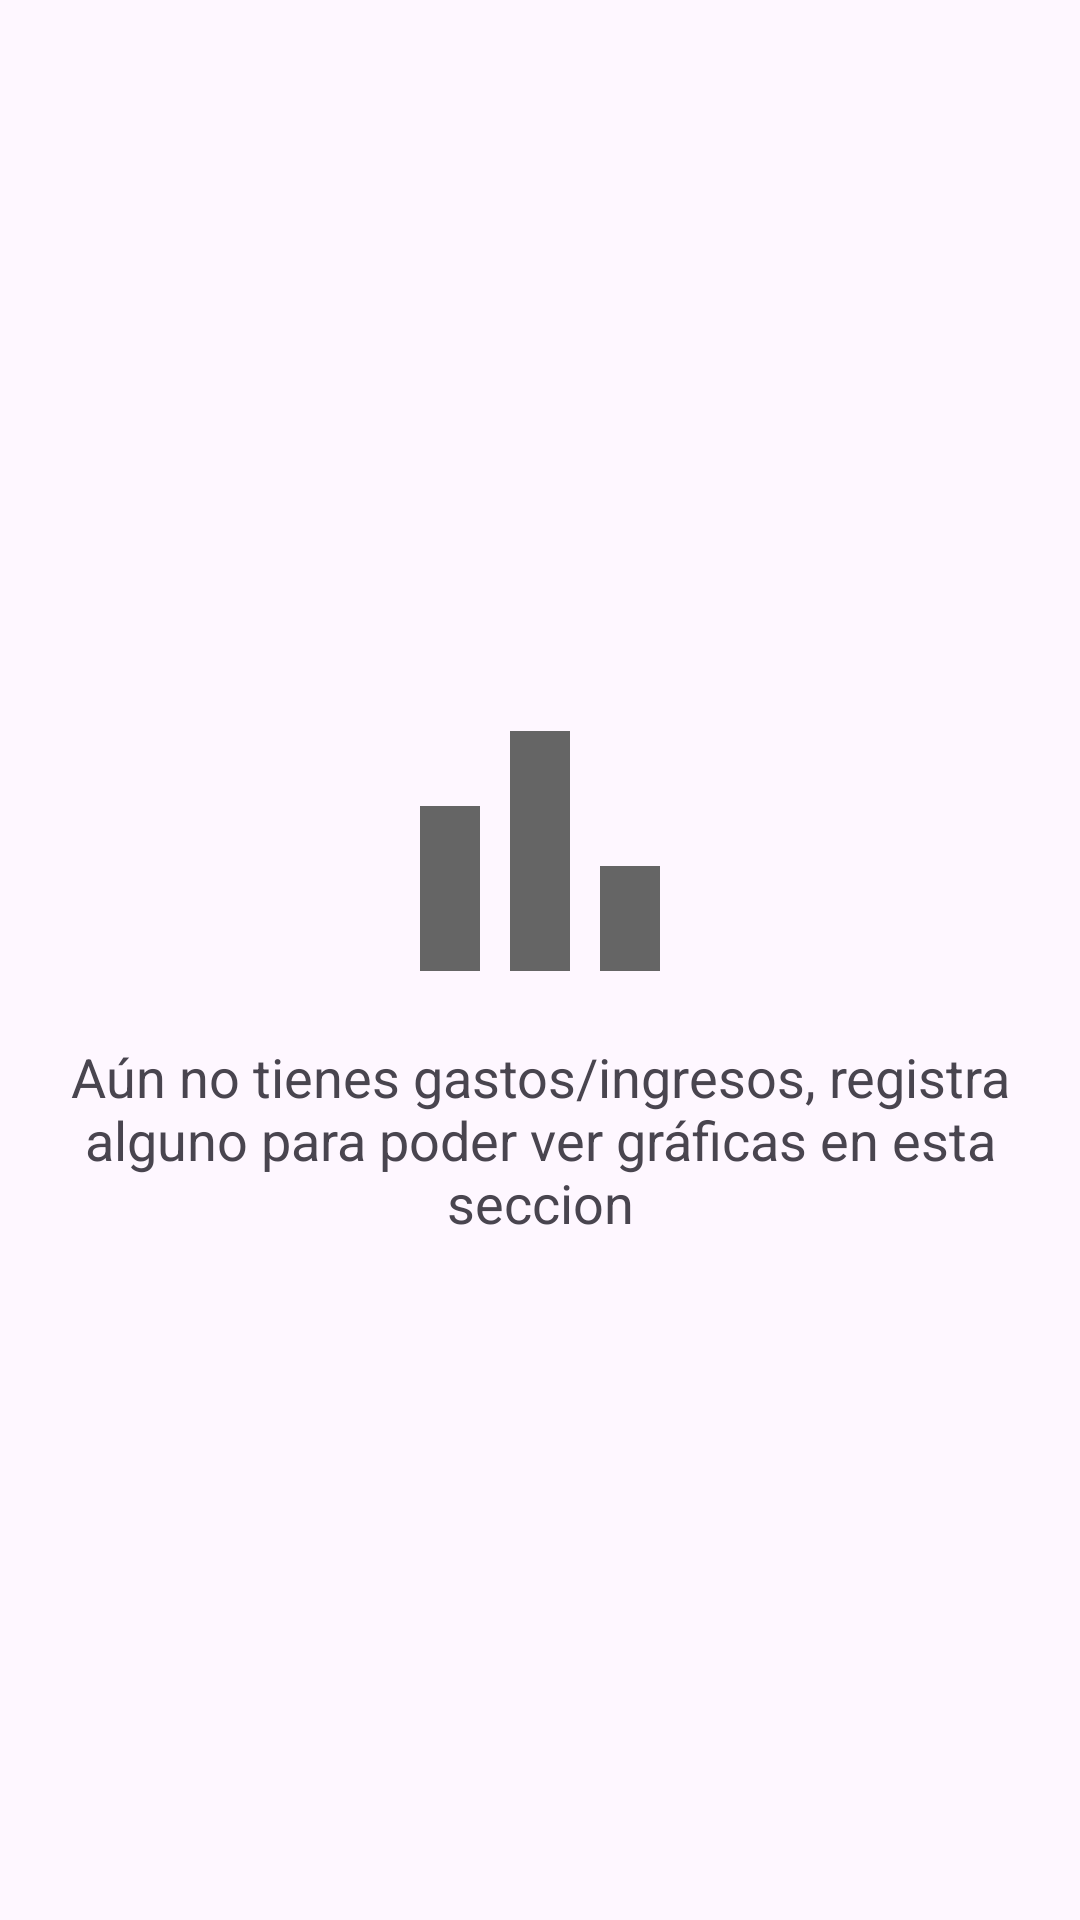

Point at icon controls on the screen. Image size 1080 × 1920, points as [x,y].
chart: [540,851]
